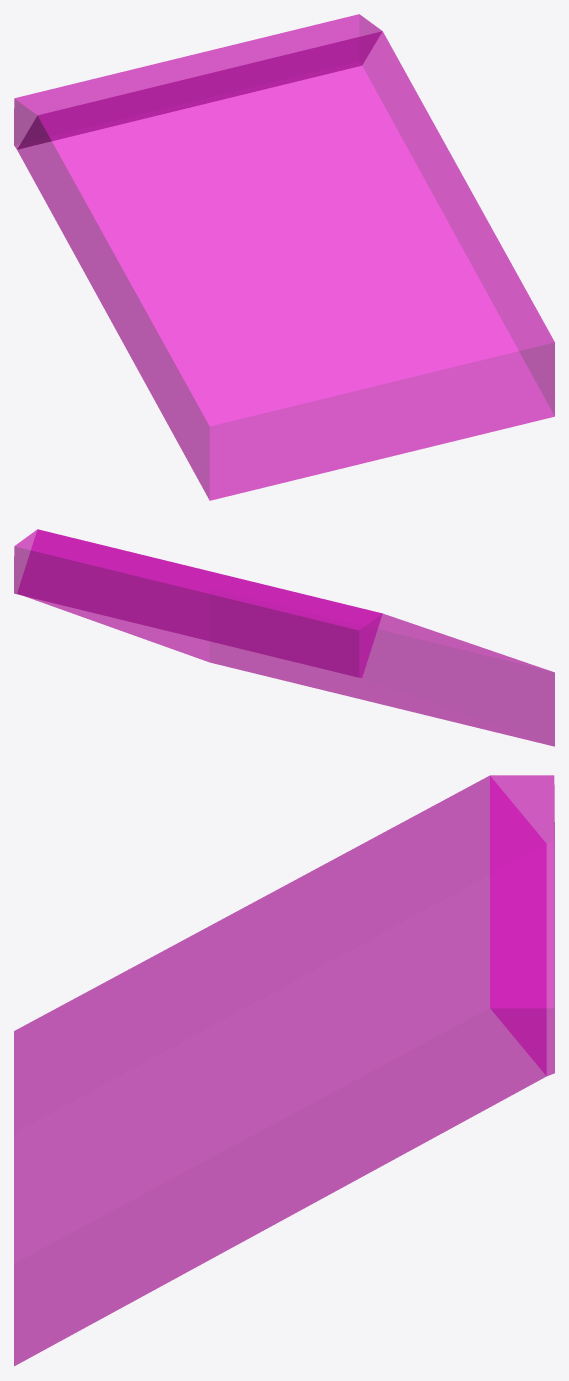
Rendered from SM_Bld_Stairs_01_Collision.fbx.
The picture shows the model from 3 angles, top to bottom: view 1: azimuth 30°, elevation 25°; view 2: azimuth 150°, elevation 25°; view 3: azimuth 270°, elevation 25°; orthographic projection. The views are drawn at different scales.
Parts seen in each view (by area): view 1: SM_Bld_Stairs_01_Collision; view 2: SM_Bld_Stairs_01_Collision; view 3: SM_Bld_Stairs_01_Collision.
Part boxes in pixels (x1,y1,x2,y2): SM_Bld_Stairs_01_Collision: [14, 14, 554, 500]; SM_Bld_Stairs_01_Collision: [14, 529, 554, 746]; SM_Bld_Stairs_01_Collision: [14, 775, 554, 1365].
Size of the model in its own units: 256 by 184 by 252.
